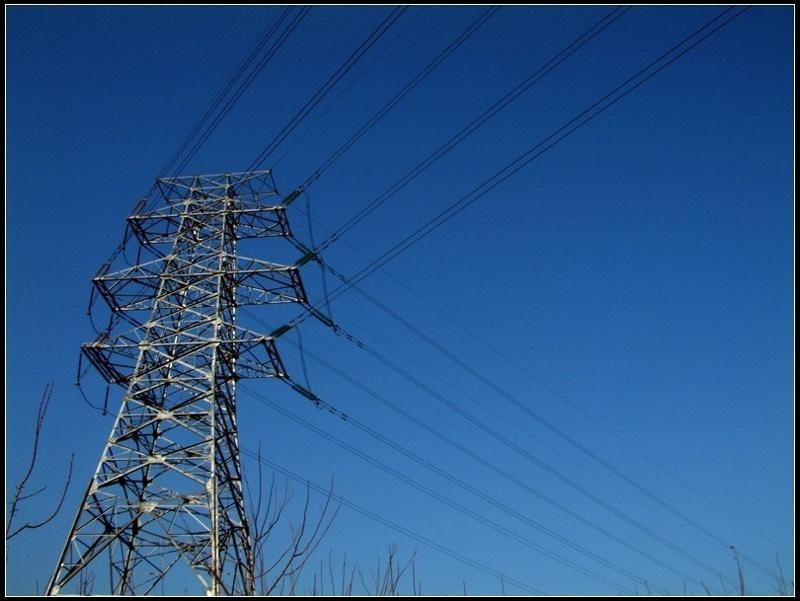power_tower: (40, 167, 364, 596)
